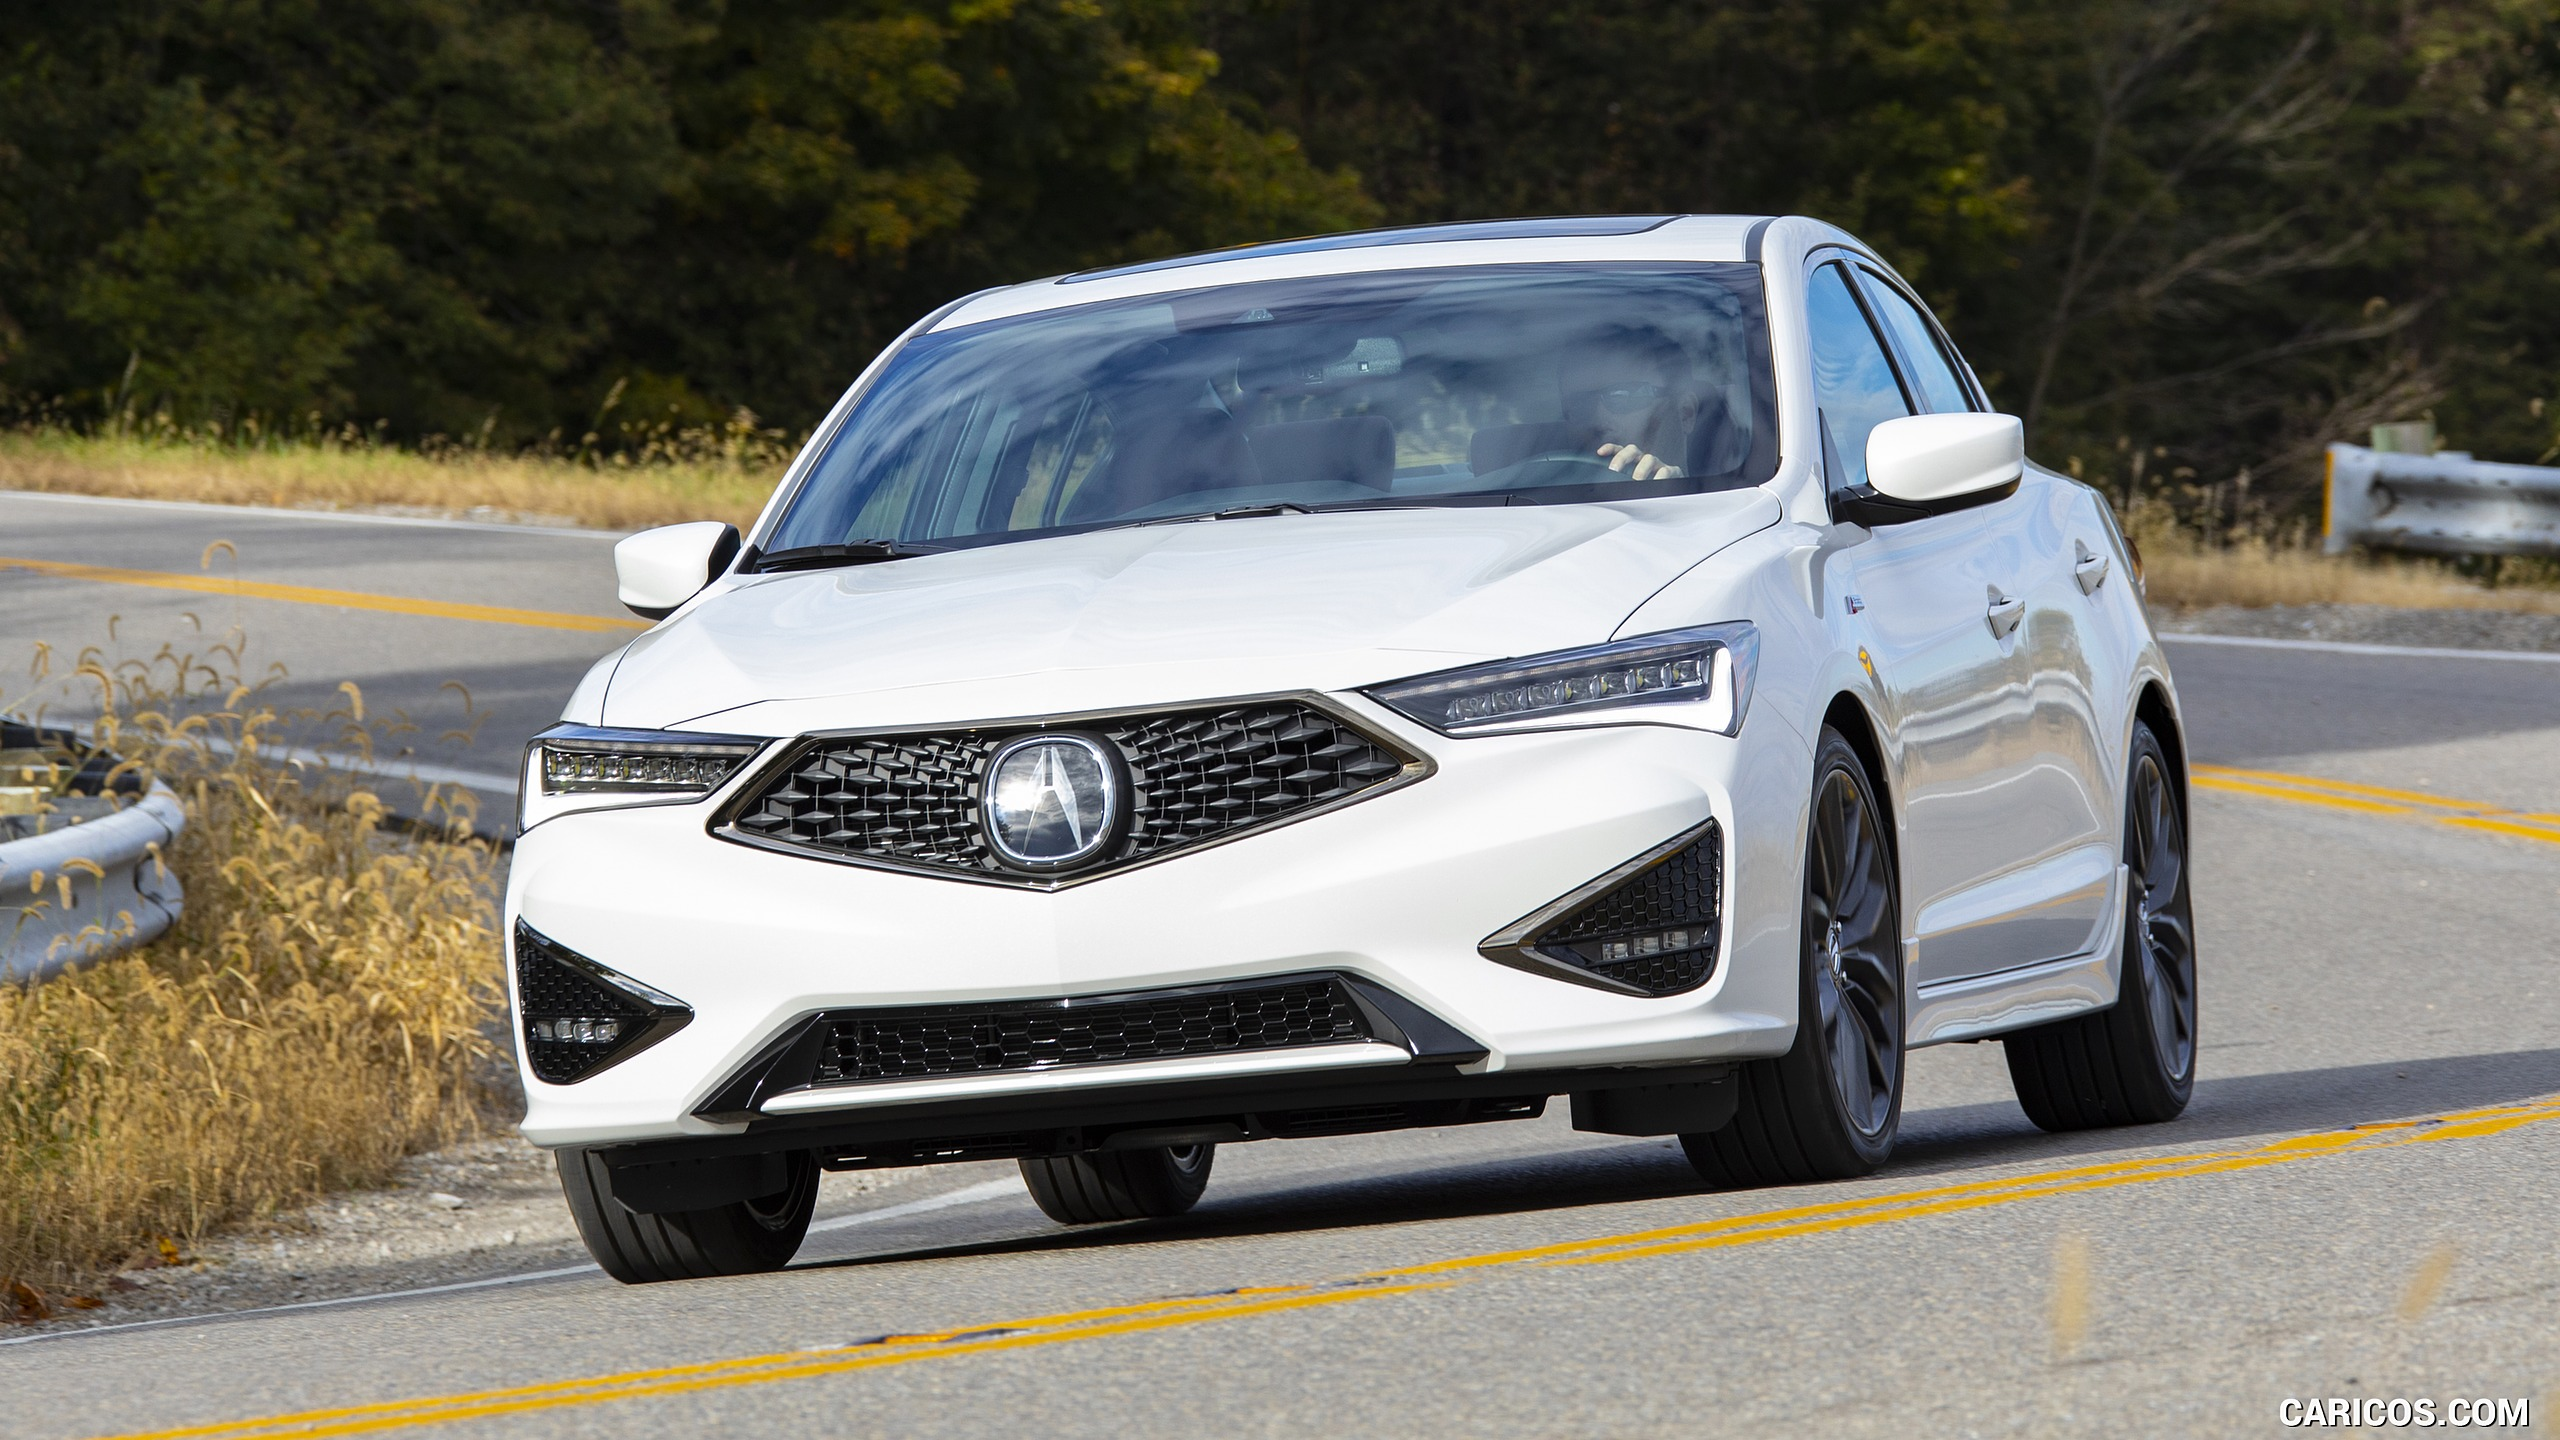Fog Lamp & Scope: (1554, 846, 1721, 993)
Front: (505, 491, 1800, 1155)
Front Bumper: (510, 876, 1779, 1159)
Grill: (765, 695, 1394, 895)
Headlight: (1421, 626, 1764, 737)
